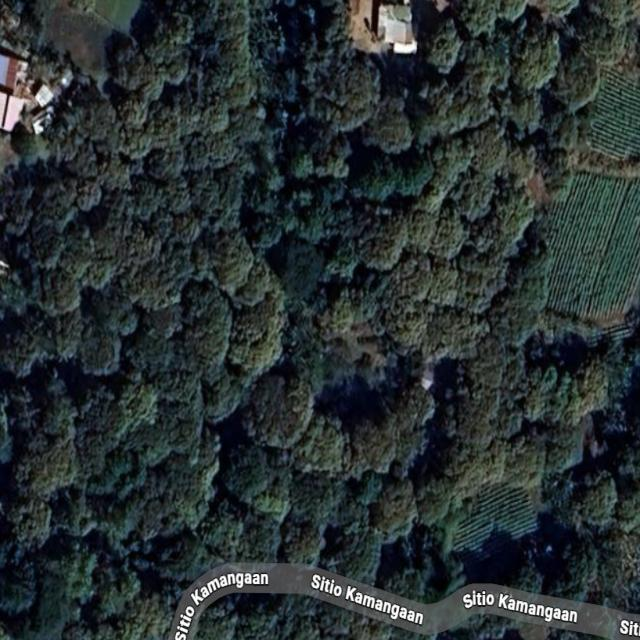Tree: (412, 46, 508, 138), (350, 385, 436, 481), (143, 434, 220, 536), (496, 344, 573, 434), (492, 240, 552, 352), (60, 224, 160, 291), (302, 1, 351, 124), (244, 371, 315, 451), (122, 397, 203, 467), (229, 291, 293, 378), (182, 278, 235, 378), (199, 5, 254, 93), (93, 476, 153, 549), (225, 444, 293, 508), (0, 307, 58, 380), (20, 430, 77, 501), (446, 383, 503, 454), (332, 61, 387, 132), (488, 184, 536, 265), (129, 328, 195, 386), (77, 398, 124, 477), (441, 442, 507, 498), (327, 521, 381, 589), (271, 231, 324, 300), (427, 304, 484, 368), (293, 413, 347, 480), (552, 528, 601, 601), (549, 47, 604, 112), (46, 542, 100, 606), (285, 468, 344, 526), (424, 137, 470, 211), (454, 254, 507, 315), (572, 15, 630, 70), (361, 96, 414, 156), (564, 356, 608, 428), (374, 477, 420, 544), (86, 283, 140, 340), (514, 25, 559, 92), (124, 265, 185, 314), (34, 167, 81, 230), (380, 292, 430, 351), (604, 522, 640, 603), (2, 496, 54, 552), (317, 198, 377, 246), (143, 13, 195, 67), (110, 40, 158, 96), (310, 288, 357, 344), (365, 211, 405, 276), (239, 509, 281, 569), (576, 470, 618, 530), (532, 146, 576, 203), (112, 173, 159, 226), (181, 128, 237, 172), (350, 153, 397, 205), (216, 158, 256, 219), (64, 122, 102, 186), (465, 121, 506, 180), (204, 503, 244, 563), (119, 592, 169, 640), (204, 372, 248, 426), (500, 86, 542, 142), (148, 101, 197, 149), (501, 437, 543, 493), (466, 331, 504, 392), (55, 485, 94, 544), (26, 218, 64, 278), (101, 566, 141, 622), (454, 166, 492, 224), (537, 424, 575, 482), (539, 100, 579, 155), (214, 237, 256, 289), (391, 253, 433, 305), (285, 518, 326, 570), (82, 323, 123, 374), (161, 540, 204, 587), (164, 236, 200, 292), (42, 270, 83, 319), (132, 302, 184, 340), (119, 380, 160, 428), (148, 368, 201, 405), (426, 21, 464, 72), (3, 179, 35, 239), (396, 148, 434, 198), (232, 260, 272, 306), (510, 556, 543, 610), (430, 212, 466, 261), (254, 204, 292, 250), (452, 1, 499, 38), (418, 473, 450, 527), (401, 207, 433, 260), (321, 242, 363, 282), (54, 306, 85, 360), (502, 141, 534, 193), (348, 280, 382, 328), (116, 121, 153, 163), (216, 74, 256, 112), (290, 199, 322, 246), (427, 262, 457, 312), (86, 98, 120, 141), (594, 1, 640, 32), (315, 144, 350, 184), (250, 489, 292, 522), (100, 156, 134, 196), (530, 0, 580, 26), (148, 145, 184, 180), (352, 465, 382, 507), (160, 48, 192, 87), (465, 216, 494, 259), (234, 104, 263, 147), (198, 97, 229, 137), (494, 399, 525, 439), (116, 93, 152, 127), (246, 180, 279, 216), (164, 178, 193, 216), (192, 175, 220, 210), (107, 450, 135, 484), (256, 127, 279, 168), (174, 211, 200, 245), (80, 178, 104, 213), (290, 149, 316, 177), (137, 74, 165, 100), (498, 2, 530, 24), (262, 165, 286, 192), (332, 132, 352, 159), (292, 184, 312, 208), (194, 243, 208, 273)
